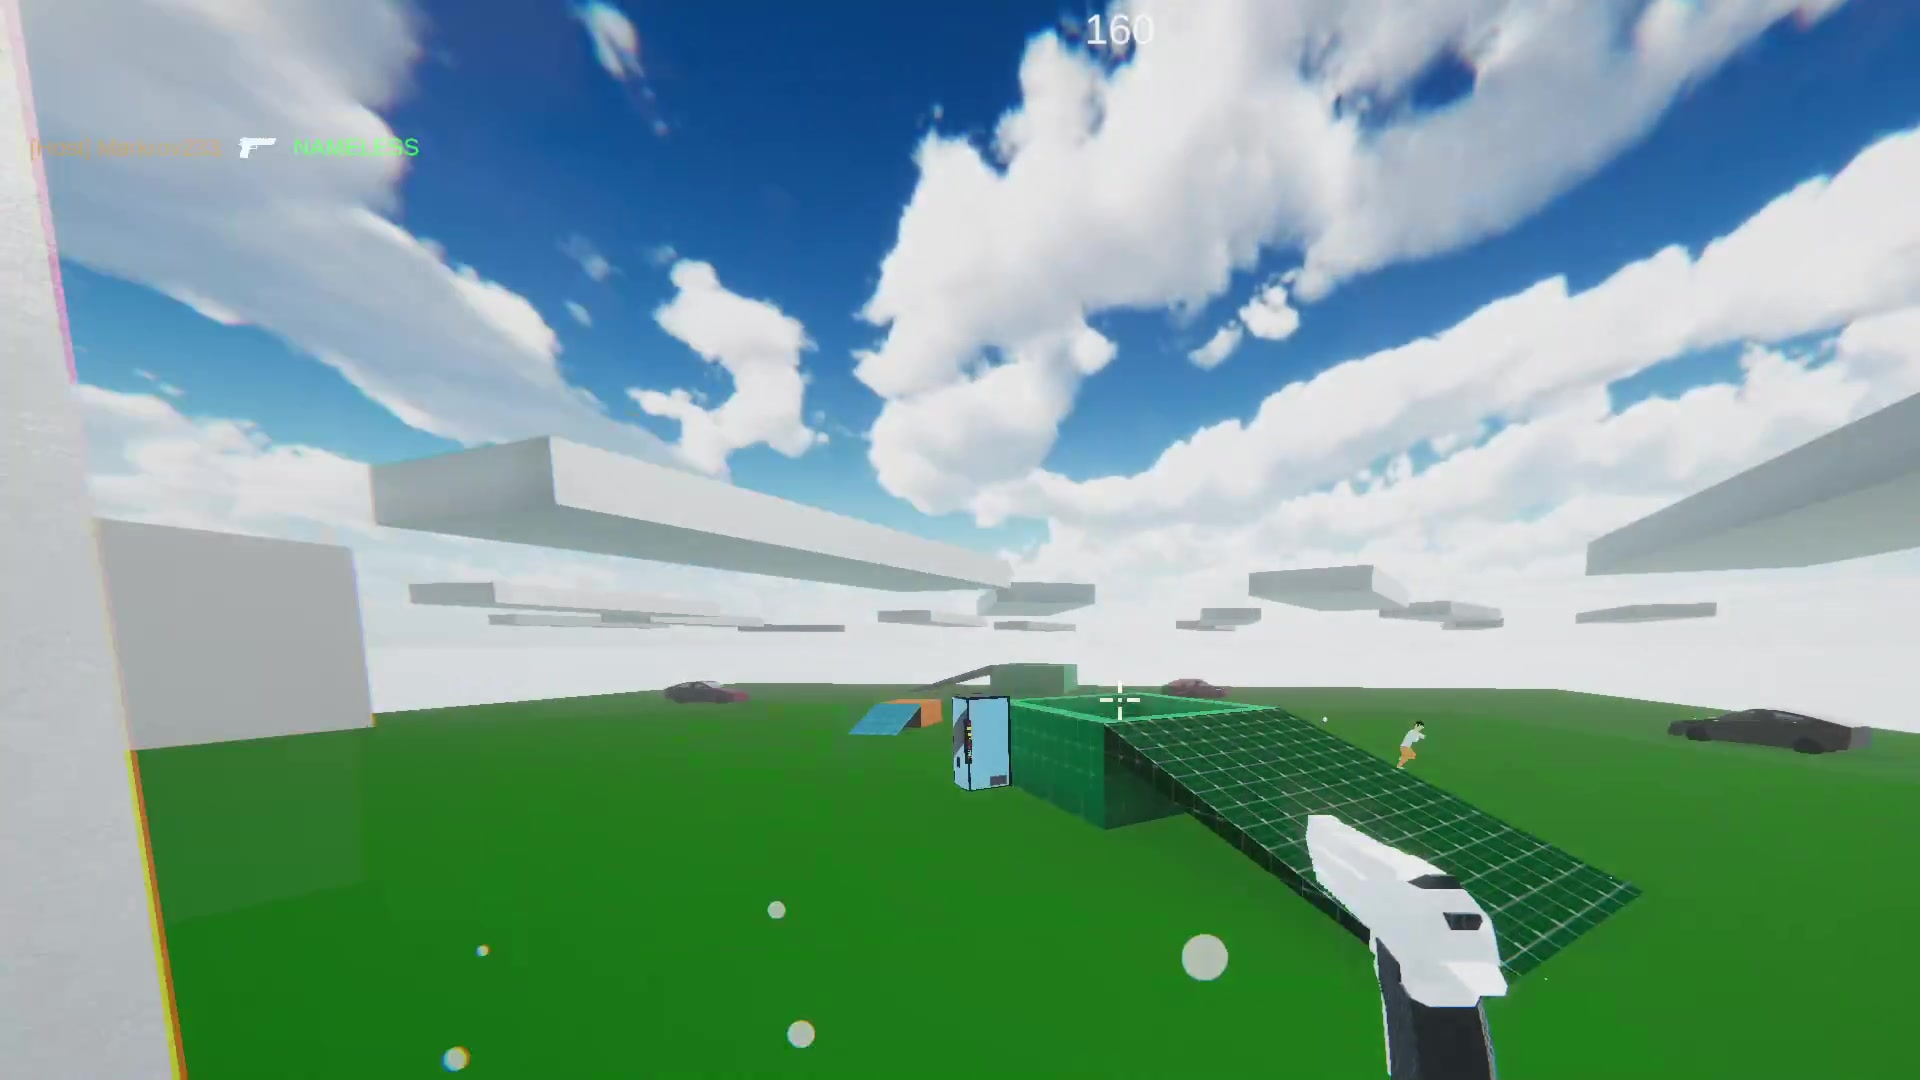human: (1402, 718, 1423, 772)
